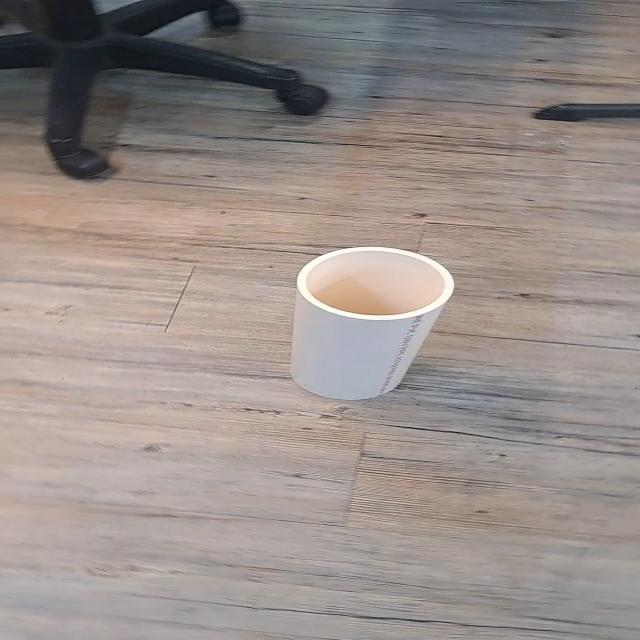CORAL: (261, 235, 478, 422)
